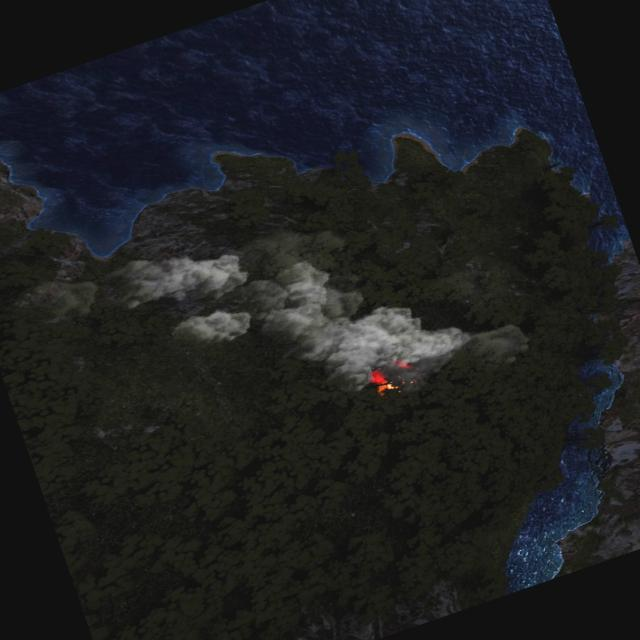fire: (368, 366, 400, 397)
smoke: (103, 145, 535, 478)
